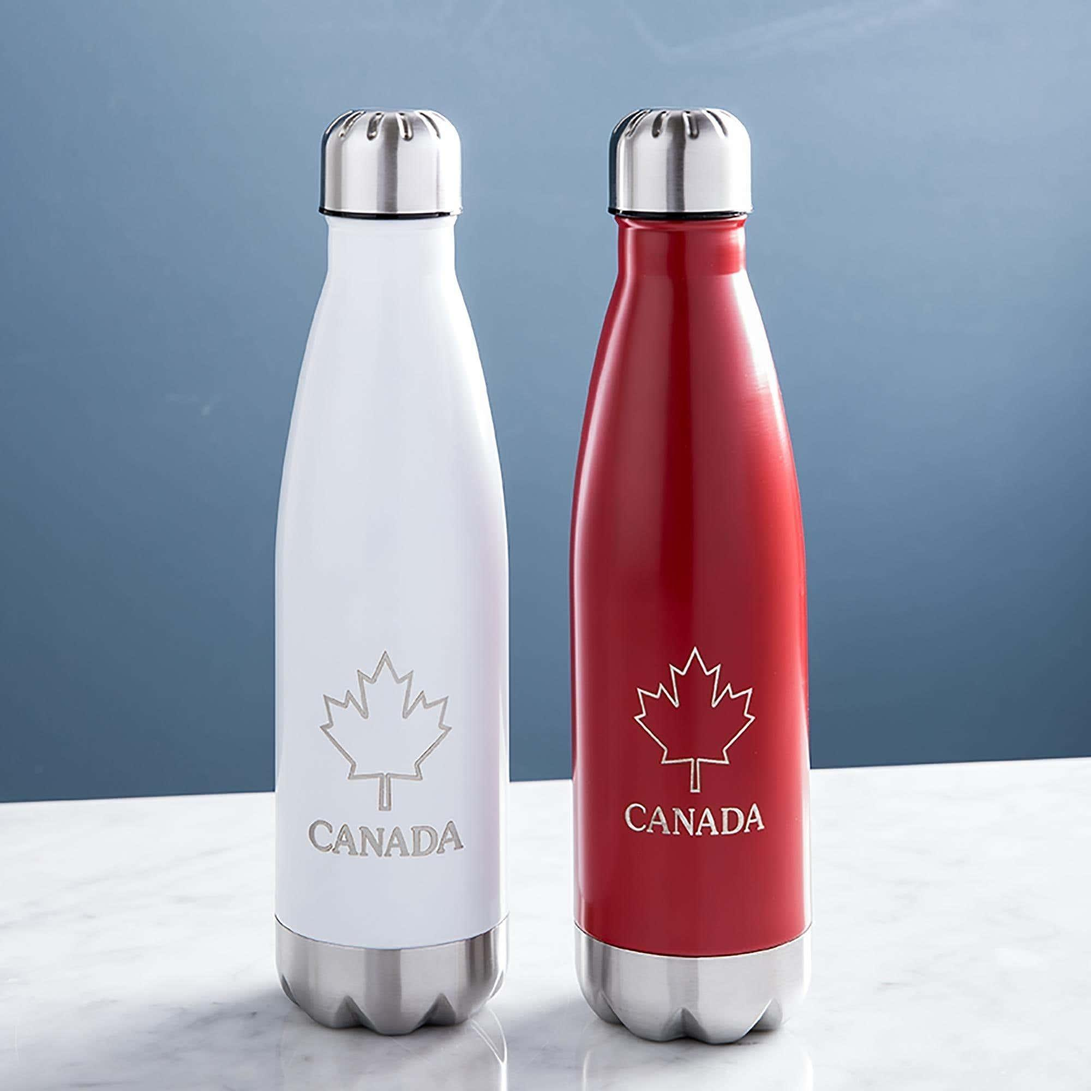gym bottle: (561, 92, 820, 1050), (262, 97, 521, 1046)
